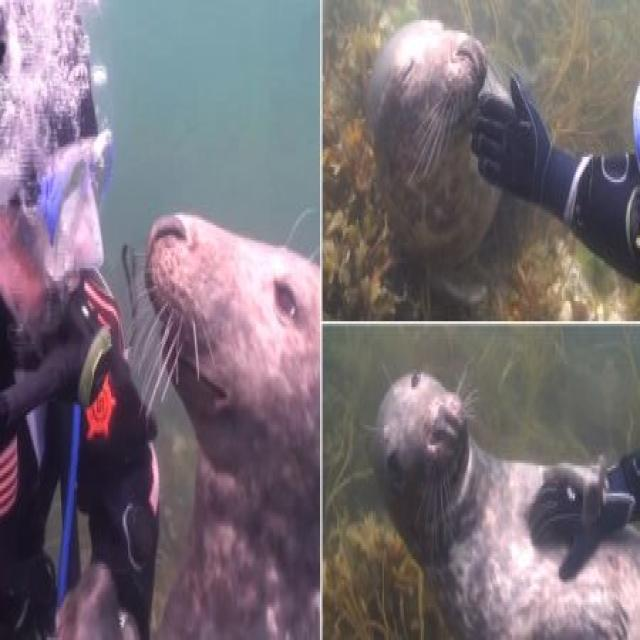WaterDog: (142, 206, 318, 640), (367, 370, 635, 634), (366, 21, 518, 286)
